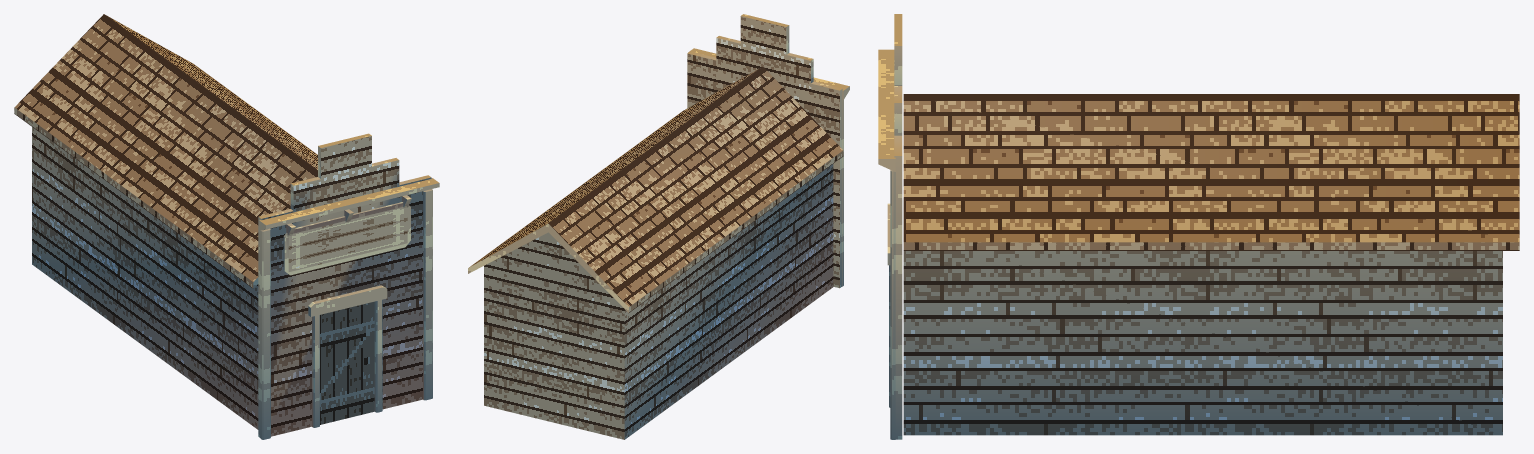
File: wtown.store__narrow.glb
3 views of the same model, side by side, from view 1: azimuth 30°, elevation 25°; view 2: azimuth 150°, elevation 25°; view 3: azimuth 270°, elevation 25° (orthographic). The views are drawn at different scales.
Parts seen in each view (by area): view 1: kit_roof, kit_body, kit_front, kit_trim, kit_card_panes; view 2: kit_body, kit_roof, kit_front, kit_trim; view 3: kit_body, kit_roof, kit_trim, kit_front.
Boxes of the visible parts, box(x1,y1,x2,y2) form: kit_roof: box(14, 14, 317, 288); kit_body: box(32, 127, 258, 429); kit_front: box(258, 133, 431, 437); kit_trim: box(259, 178, 439, 439); kit_card_panes: box(288, 207, 407, 424); kit_body: box(484, 164, 833, 439); kit_roof: box(468, 66, 843, 312); kit_front: box(687, 14, 842, 288); kit_trim: box(688, 48, 849, 286); kit_body: box(903, 251, 1502, 435); kit_roof: box(903, 94, 1519, 250); kit_trim: box(878, 49, 895, 439); kit_front: box(894, 14, 902, 439).
Size of the model in its own units: 4 by 5.9 by 9.63.
Materials: 5 (5 with a texture image).
